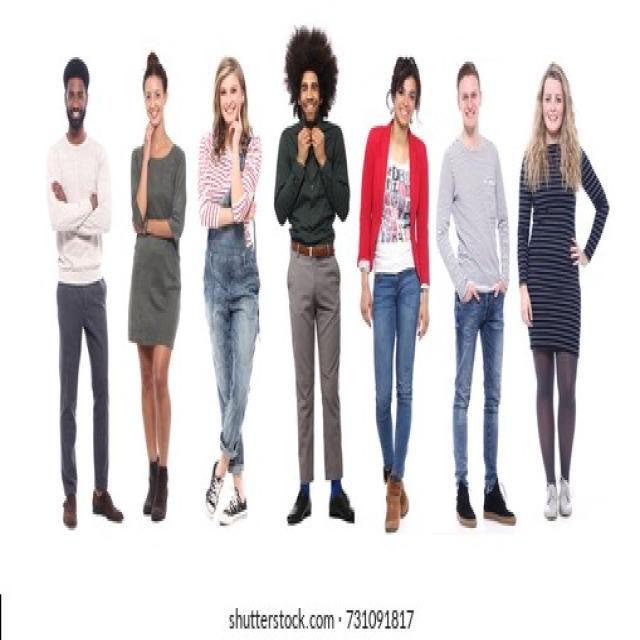standing: (516, 57, 612, 521), (274, 23, 357, 523), (435, 58, 517, 530), (46, 57, 125, 532), (355, 52, 432, 534), (196, 53, 264, 527), (125, 46, 191, 526)
